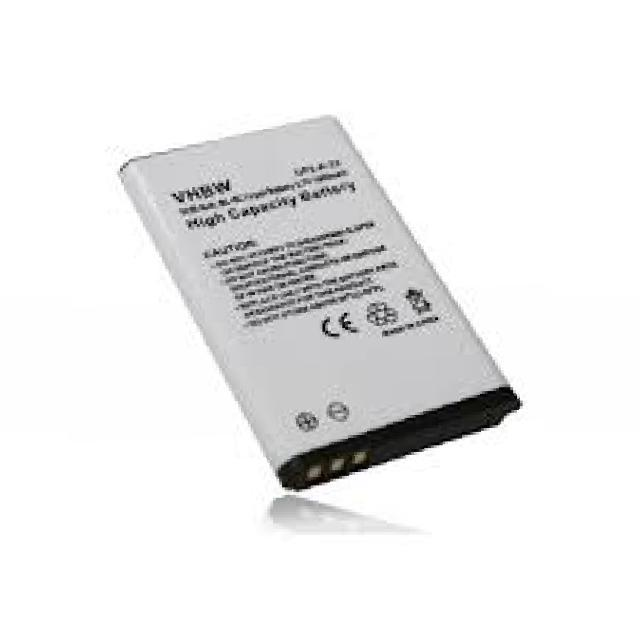Battery: (84, 82, 564, 512)
